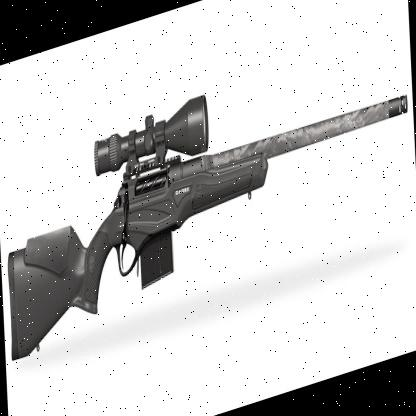rifle: (3, 47, 415, 373)
